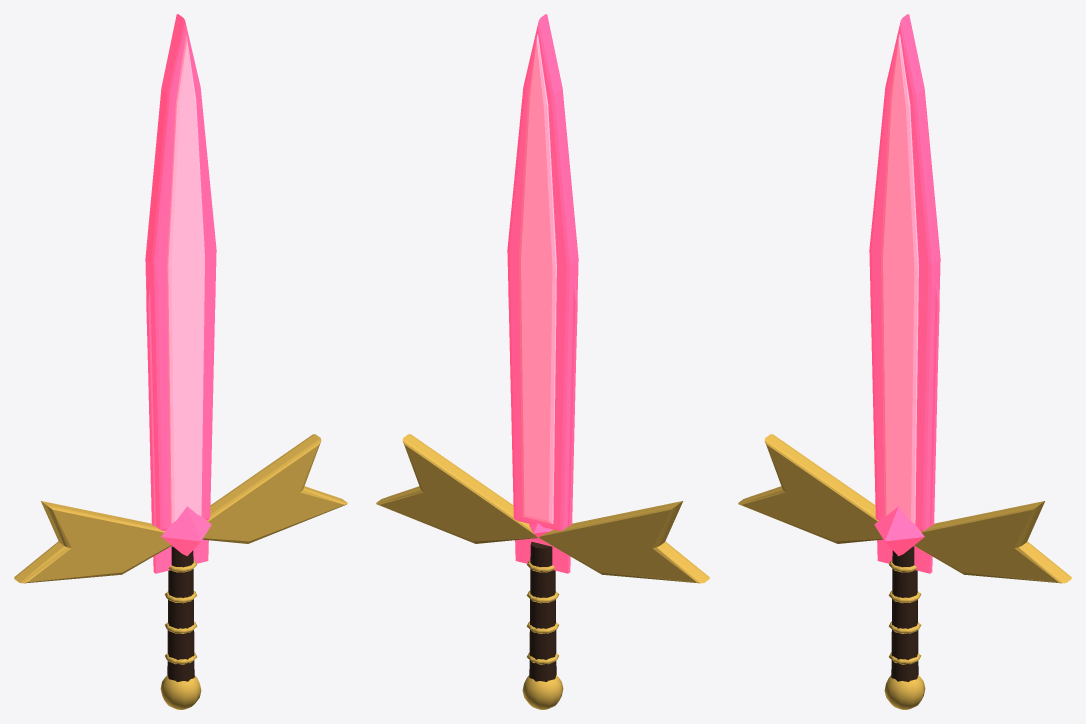
Rendered from sword_f3_2c0a69ee.glb.
3 views of the same model, side by side, from view 1: azimuth 30°, elevation 25°; view 2: azimuth 150°, elevation 25°; view 3: azimuth 330°, elevation 25° (orthographic).
Visible parts, largest first — view 1: m5_ow80_, m2_ow80_, m1_gm130_, m4_ow80_, m0_gm130_, m3_gm160_; view 2: m5_ow80_, m2_ow80_, m1_gm130_, m4_ow80_, m0_gm130_; view 3: m5_ow80_, m2_ow80_, m1_gm130_, m4_ow80_, m0_gm130_, m3_gm160_.
Part boxes in pixels (<box>): m5_ow80_: <box>14,434,347,709</box>; m2_ow80_: <box>167,34,204,523</box>; m1_gm130_: <box>145,14,216,530</box>; m4_ow80_: <box>167,546,194,681</box>; m0_gm130_: <box>146,283,215,573</box>; m3_gm160_: <box>161,506,211,556</box>; m5_ow80_: <box>376,434,709,709</box>; m2_ow80_: <box>519,34,556,523</box>; m1_gm130_: <box>507,14,578,530</box>; m4_ow80_: <box>529,542,556,681</box>; m0_gm130_: <box>508,283,577,573</box>; m5_ow80_: <box>738,434,1071,709</box>; m2_ow80_: <box>881,34,918,523</box>; m1_gm130_: <box>869,14,940,530</box>; m4_ow80_: <box>891,546,918,681</box>; m0_gm130_: <box>870,283,939,573</box>; m3_gm160_: <box>874,506,924,556</box>.
Size of the model in its own units: 1.03 by 2.08 by 0.1633.
